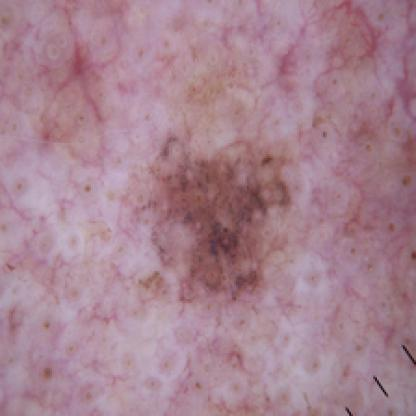Skin_Cancer-Malignant: (151, 127, 296, 305)
